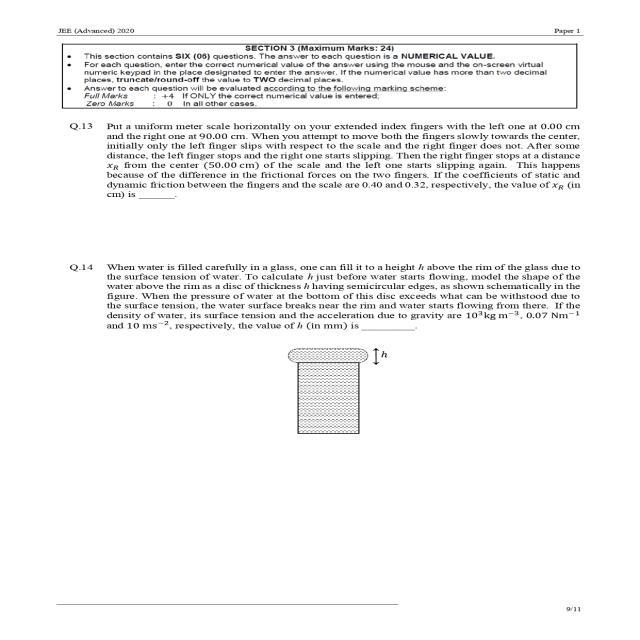Instruction: (33, 39, 605, 114)
Question_Answer_Block: (33, 250, 605, 448), (33, 113, 605, 225)
Question_Block: (33, 250, 605, 448), (33, 113, 605, 225)
Question_Paper_Area: (33, 39, 605, 546)
